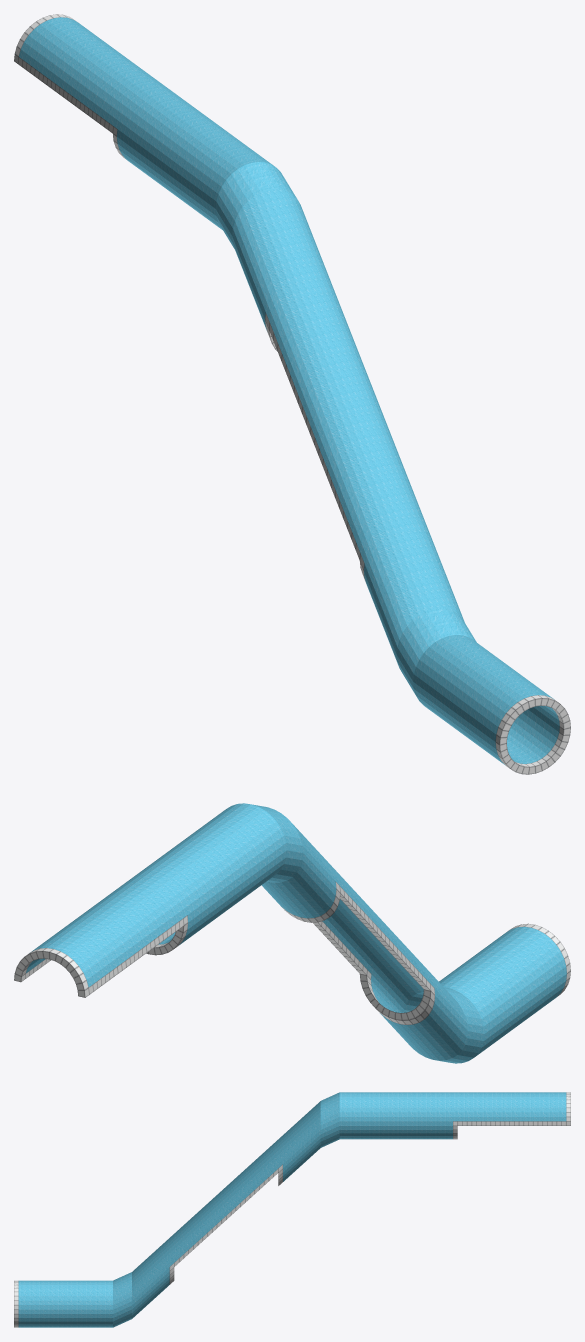
Rendered from ThinIcePipe2.obj.
The picture shows the model from 3 angles, top to bottom: view 1: azimuth 30°, elevation 25°; view 2: azimuth 150°, elevation 25°; view 3: azimuth 270°, elevation 25°; orthographic projection. The views are drawn at different scales.
Parts seen in each view (by area): view 1: ThinIcePipe2; view 2: ThinIcePipe2; view 3: ThinIcePipe2.
Part boxes in pixels (x1,y1,x2,y2): ThinIcePipe2: (14,14,570,774); ThinIcePipe2: (14,803,570,1063); ThinIcePipe2: (14,1092,570,1327).
Bounding box in the file's own units: 5 × 27 × 59.
